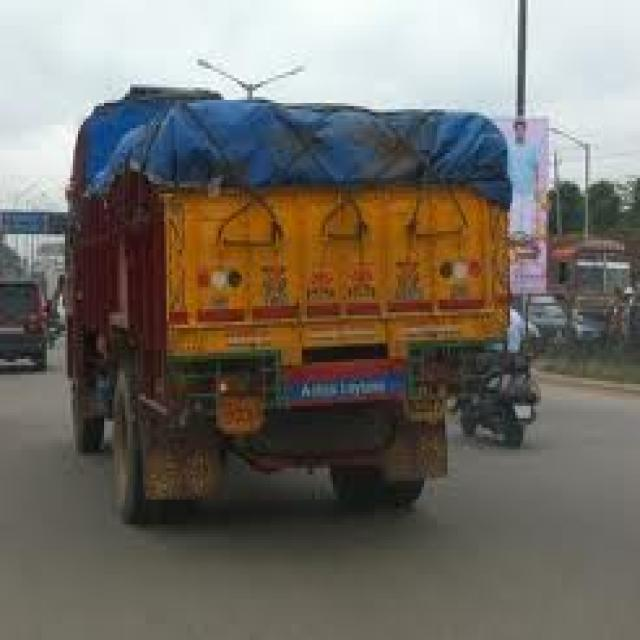car_back: (0, 268, 52, 374)
truck_back: (62, 55, 525, 532)
